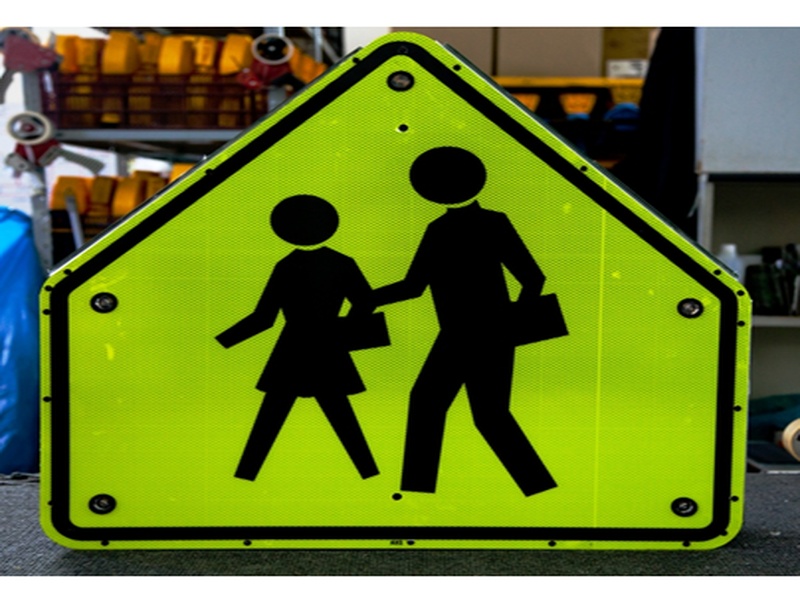slow: (37, 35, 748, 555)
